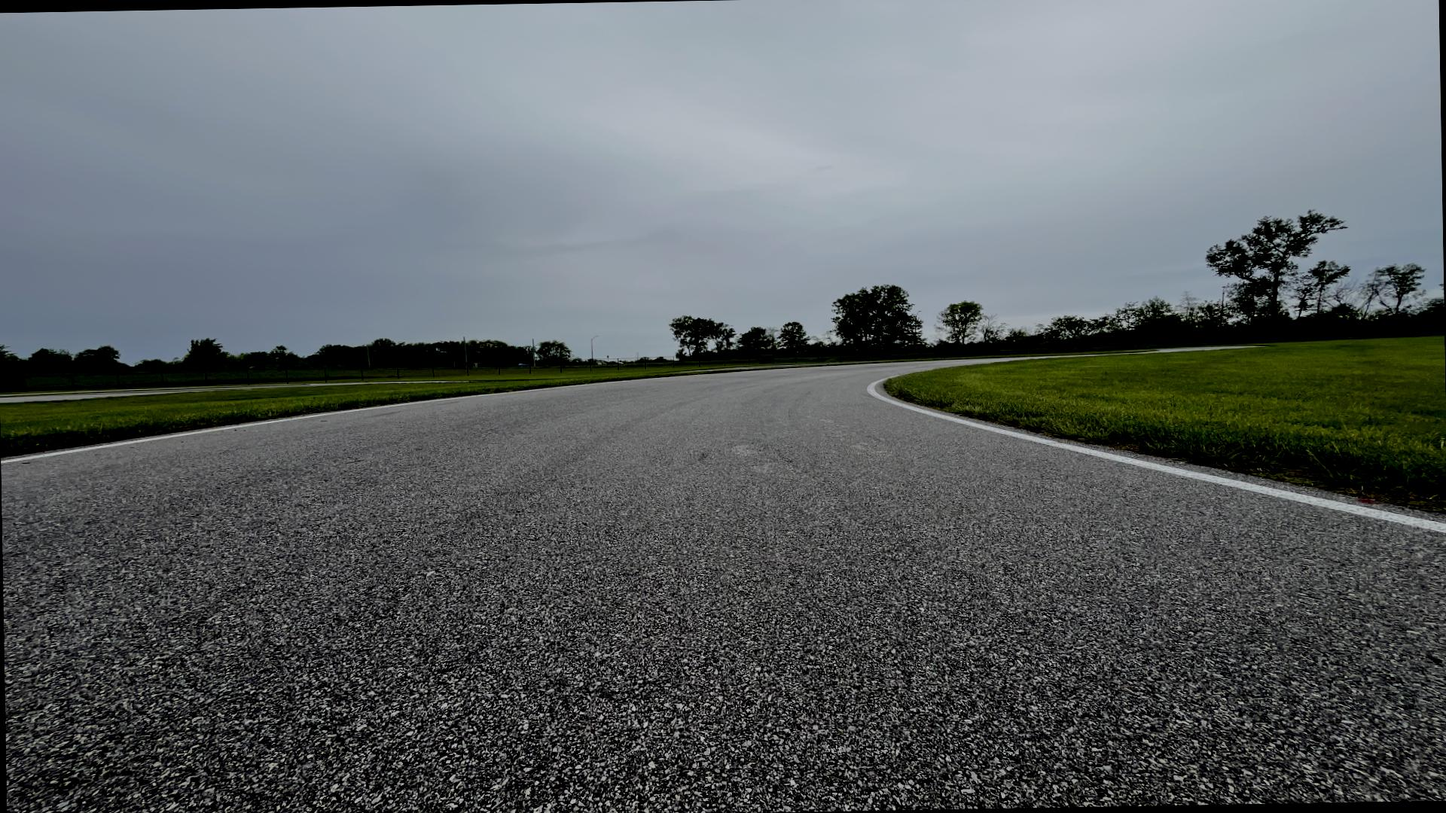white-line: (868, 368, 1445, 534), (1, 374, 700, 464)
